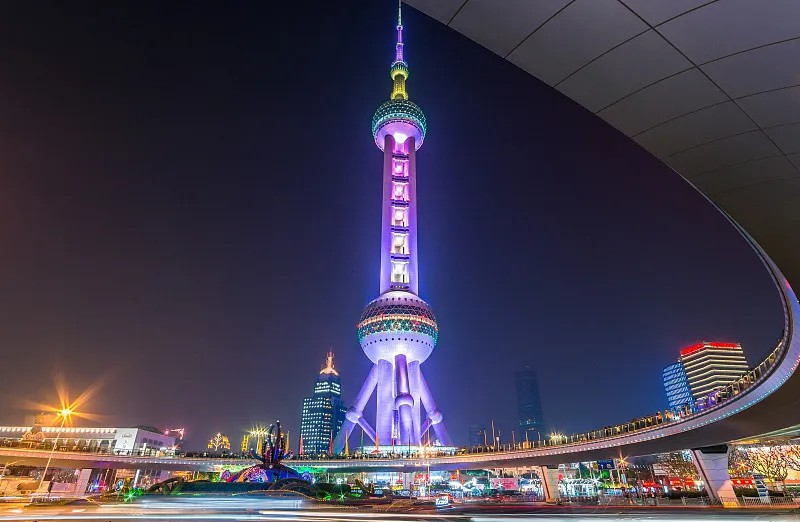Oriental: (333, 1, 456, 451)
